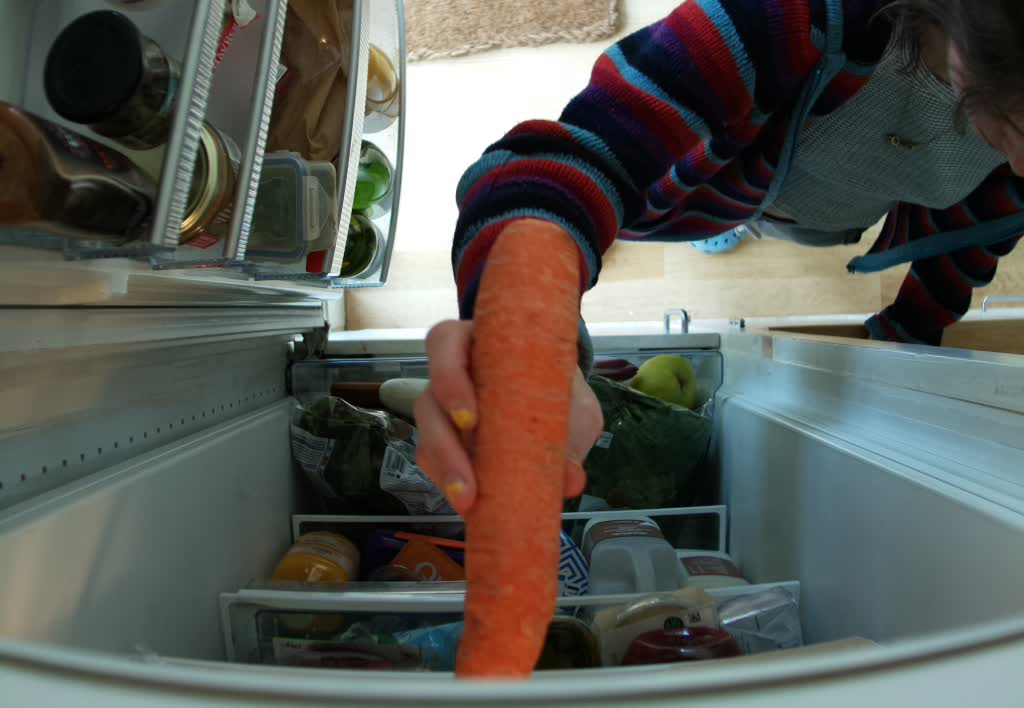carrot: (452, 219, 591, 680)
